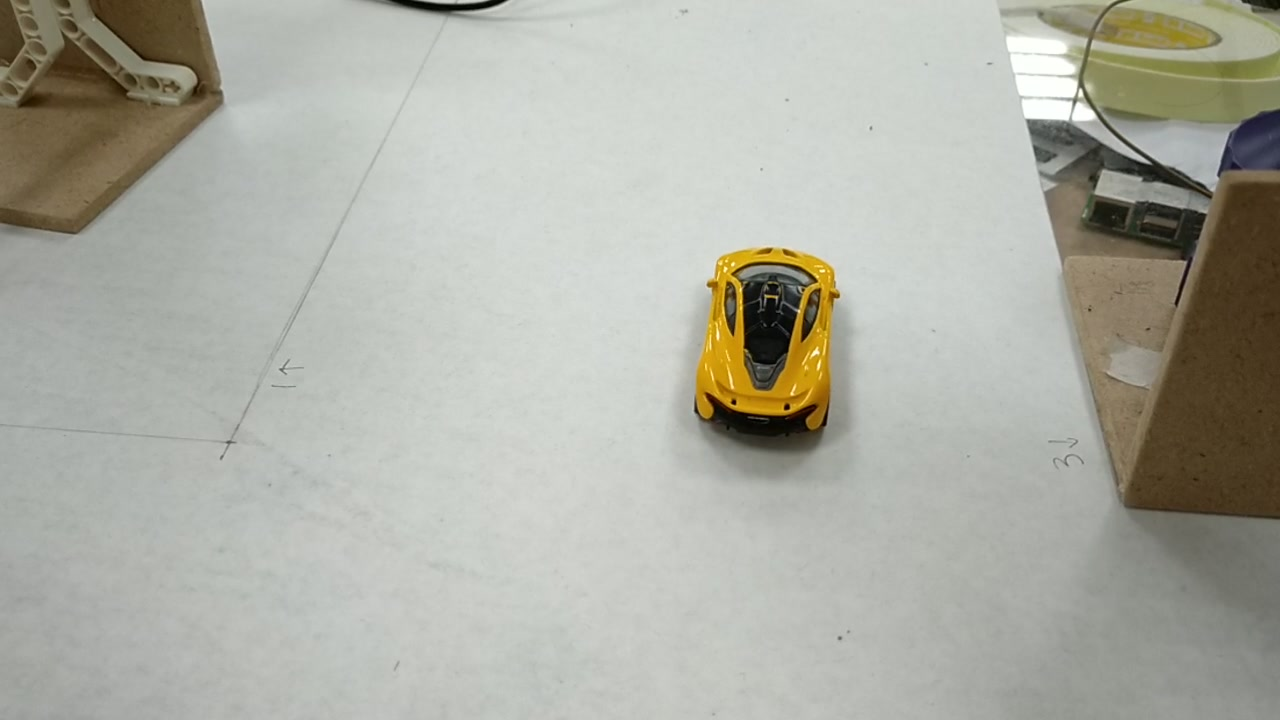car: (694, 247, 841, 435)
